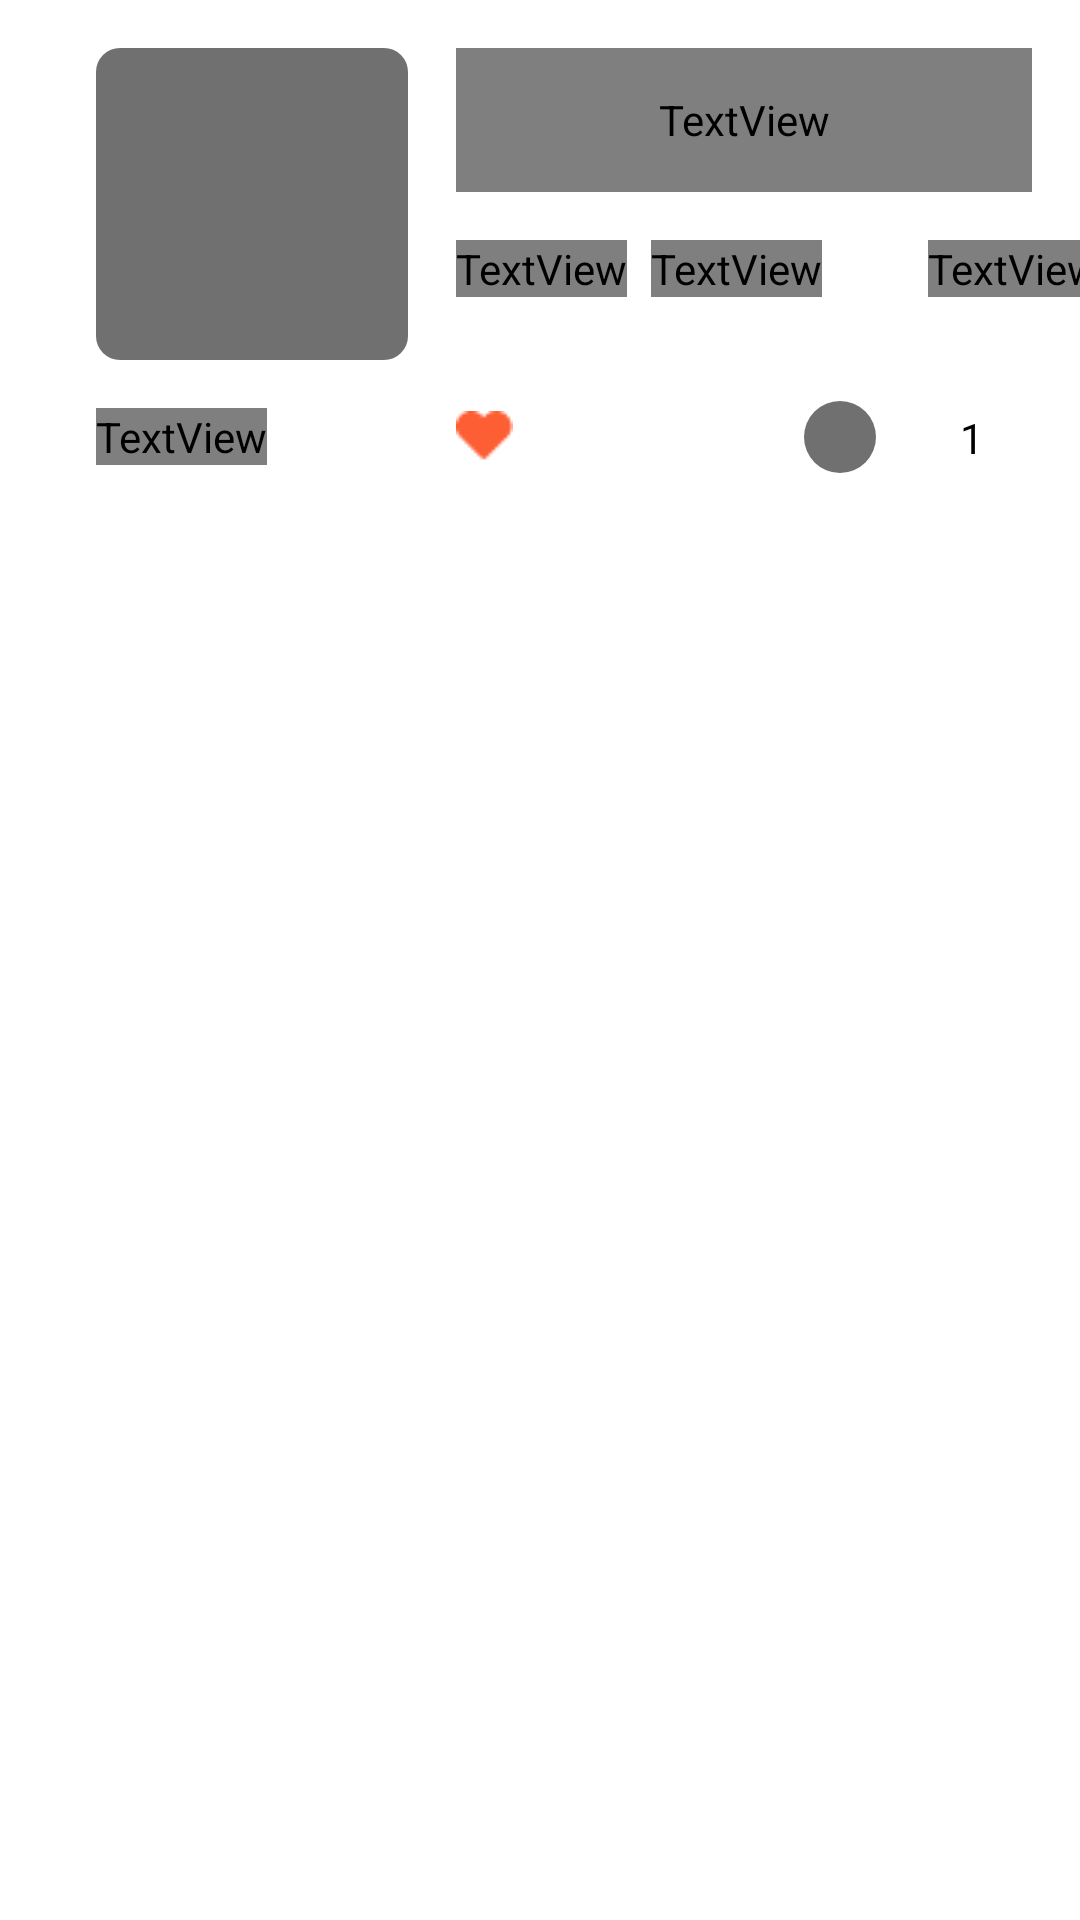

Point at icon controls on the screen. Image size 1080*1920, points as (x=x, y=y).
wish list: (x=484, y=435)
